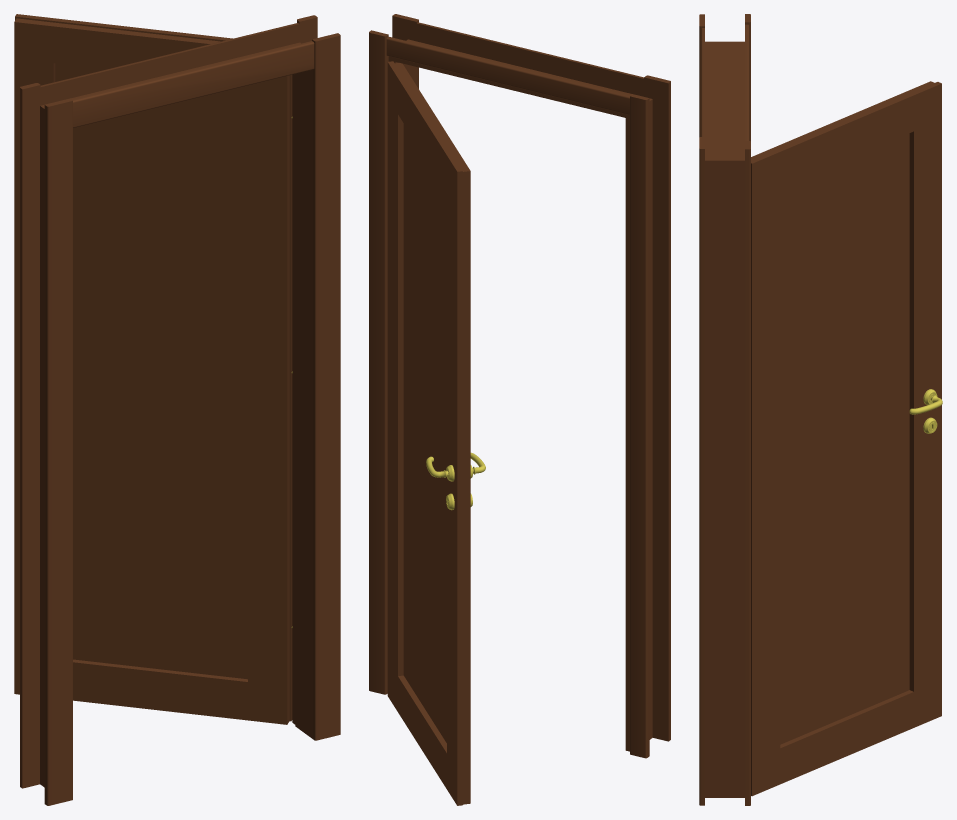
The model's file is Dynamic-Internal-Door.fbx.
The picture shows the model from 3 angles, left to right: view 1: azimuth 30°, elevation 25°; view 2: azimuth 150°, elevation 25°; view 3: azimuth 270°, elevation 25°; orthographic projection. The views are drawn at different scales.
Visible parts, largest first — view 1: Pannello, MontanteDx4, MontanteSx, MontanteDx, MontanteSx1, MontanteDx2, TraversaInf, Traversa, Traversa1, TraversaSup, MontanteSx4, MontanteSx3 (+2 smaller); view 2: Pannello, MontanteSx4, MontanteSx1, MontanteSx, MontanteDx1, MontanteDx4, Traversa1, Traversa, MontanteSx3, TraversaSup, MontanteSx2, TraversaInf (+5 smaller); view 3: Pannello, MontanteDx2, MontanteSx4, MontanteDx4, TraversaSup, MontanteDx3, TraversaInf, MontanteDx, MontanteDx1, Traversa2, SpigoloDx, SpigoloSx (+2 smaller).
Part boxes in pixels (left/top/right/bottom): Pannello: left=55, top=63, right=247, bottom=679; MontanteDx4: left=248, top=85, right=292, bottom=724; MontanteSx: left=44, top=98, right=72, bottom=805; MontanteDx: left=312, top=33, right=340, bottom=740; MontanteSx1: left=20, top=83, right=40, bottom=788; MontanteDx2: left=295, top=70, right=311, bottom=738; TraversaInf: left=73, top=659, right=247, bottom=720; Traversa: left=72, top=41, right=314, bottom=127; Traversa1: left=40, top=23, right=299, bottom=105; TraversaSup: left=53, top=18, right=232, bottom=69; MontanteSx4: left=14, top=59, right=55, bottom=694; MontanteSx3: left=40, top=105, right=44, bottom=787; Pannello: left=403, top=124, right=446, bottom=742; MontanteSx4: left=447, top=192, right=470, bottom=805; MontanteSx1: left=630, top=94, right=649, bottom=758; MontanteSx: left=644, top=75, right=670, bottom=741; MontanteDx1: left=369, top=30, right=388, bottom=694; MontanteDx4: left=387, top=98, right=403, bottom=711; Traversa1: left=386, top=36, right=629, bottom=114; Traversa: left=416, top=22, right=643, bottom=96; MontanteSx3: left=625, top=114, right=629, bottom=751; TraversaSup: left=398, top=77, right=460, bottom=190; MontanteSx2: left=649, top=98, right=652, bottom=739; TraversaInf: left=398, top=675, right=446, bottom=788; Pannello: left=780, top=133, right=909, bottom=744; MontanteDx2: left=705, top=156, right=736, bottom=797; MontanteSx4: left=909, top=119, right=941, bottom=727; MontanteDx4: left=751, top=188, right=780, bottom=796; TraversaSup: left=770, top=92, right=913, bottom=187; MontanteDx3: left=736, top=157, right=744, bottom=797; TraversaInf: left=780, top=690, right=913, bottom=784; MontanteDx: left=699, top=137, right=704, bottom=805; MontanteDx1: left=745, top=141, right=750, bottom=805; Traversa2: left=705, top=46, right=736, bottom=156; SpigoloDx: left=751, top=149, right=780, bottom=199; SpigoloSx: left=904, top=81, right=941, bottom=131.
Bounding box in the file's own units: 96.6 × 219 × 73.47.
